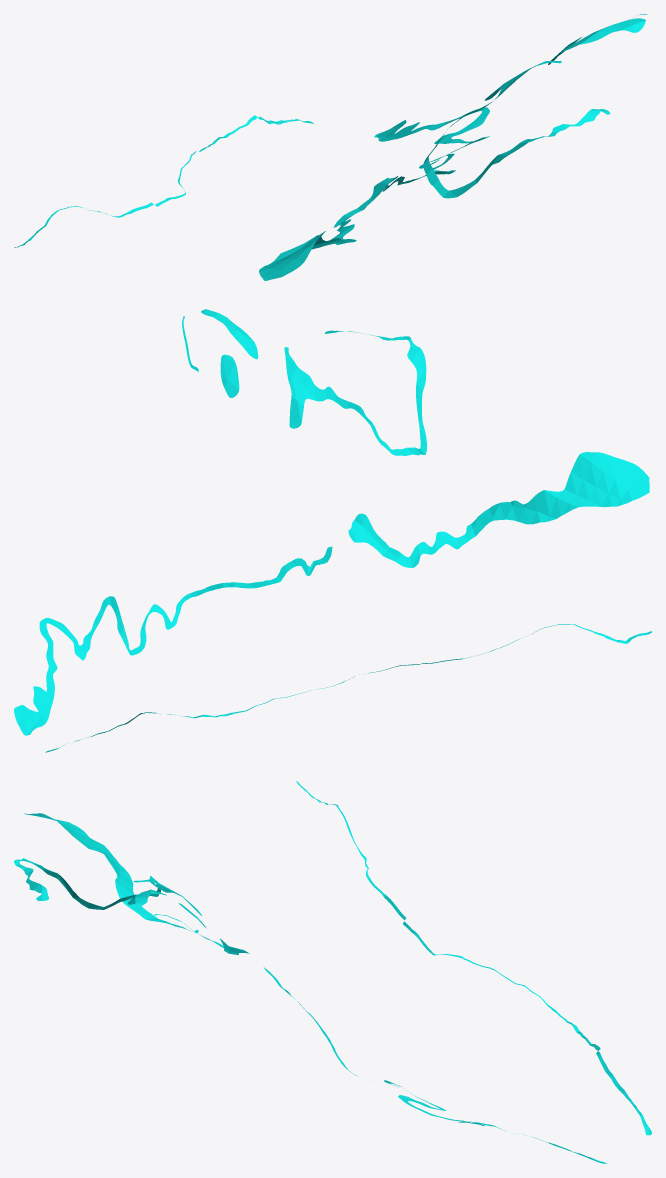
File: 6_Chert (4).dae
3 views of the same model, one above another, from view 1: azimuth 30°, elevation 25°; view 2: azimuth 150°, elevation 25°; view 3: azimuth 270°, elevation 25° (orthographic). The views are drawn at different scales.
Visible parts, largest first — view 1: Object (×5); view 2: Object (×5); view 3: Object (×4).
Part boxes in pixels (x1,y1,x2,y2): Object (×5): [155, 18, 645, 280]; Object (×5): [14, 309, 649, 735]; Object (×4): [14, 813, 651, 1163].
Bounding box in the file's own units: 37.12 × 17.1 × 35.33.
